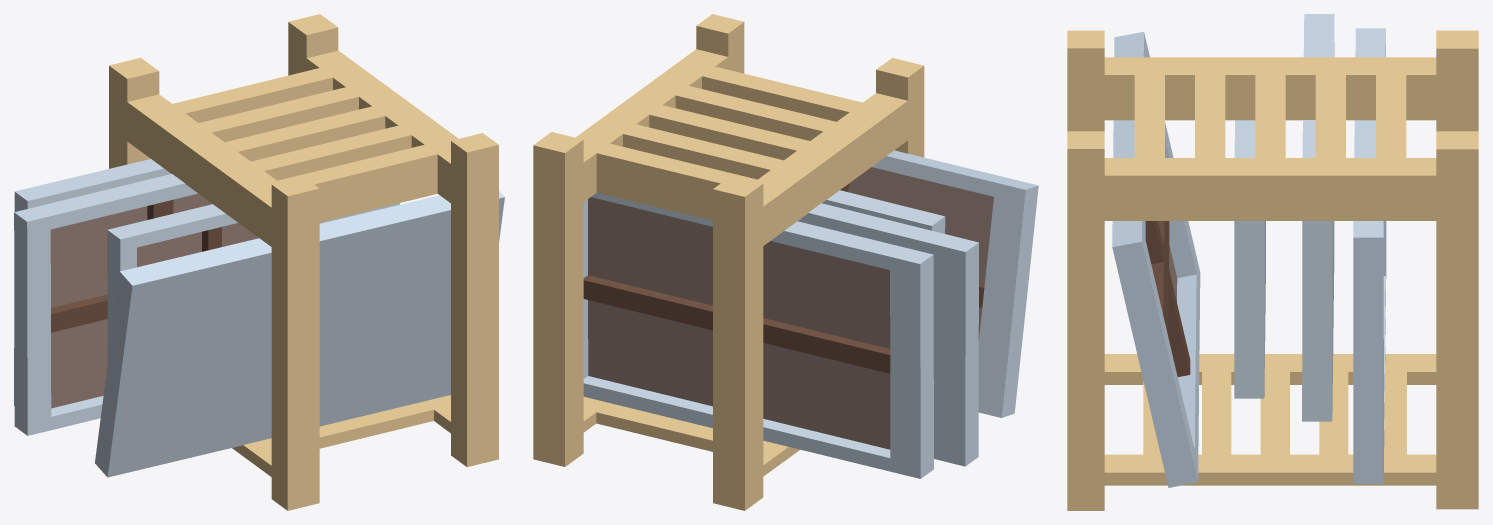
The model's file is giatranh1.fbx.
3 views of the same model, side by side, from view 1: azimuth 30°, elevation 25°; view 2: azimuth 150°, elevation 25°; view 3: azimuth 270°, elevation 25° (orthographic). The views are drawn at different scales.
Visible parts, largest first — view 1: giatranh1; view 2: giatranh1; view 3: giatranh1.
Part boxes in pixels (x1=…): giatranh1: x1=14, y1=14, x2=504, y2=510; giatranh1: x1=533, y1=14, x2=1038, y2=510; giatranh1: x1=1067, y1=14, x2=1478, y2=510.
Bounding box in the file's own units: 244 × 186 × 192.
